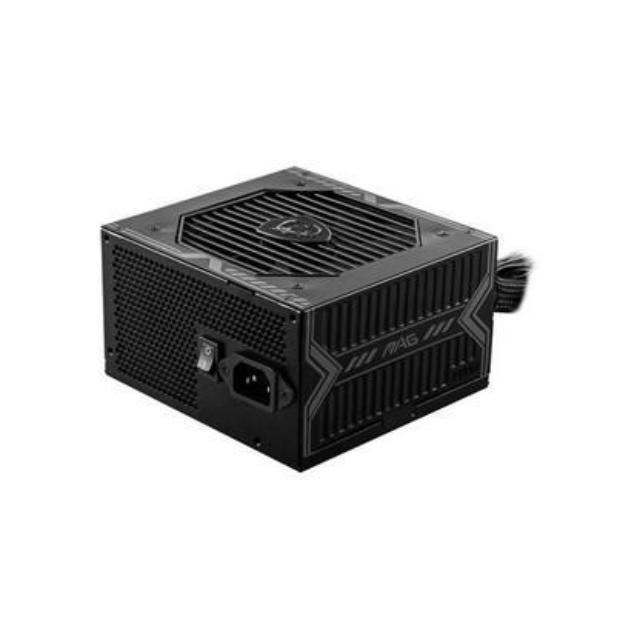PSU: (69, 144, 551, 476)
